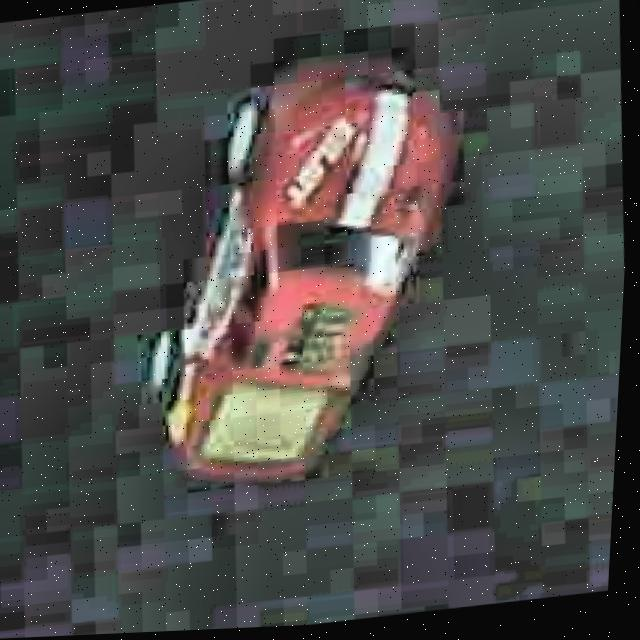car: (110, 34, 490, 508)
